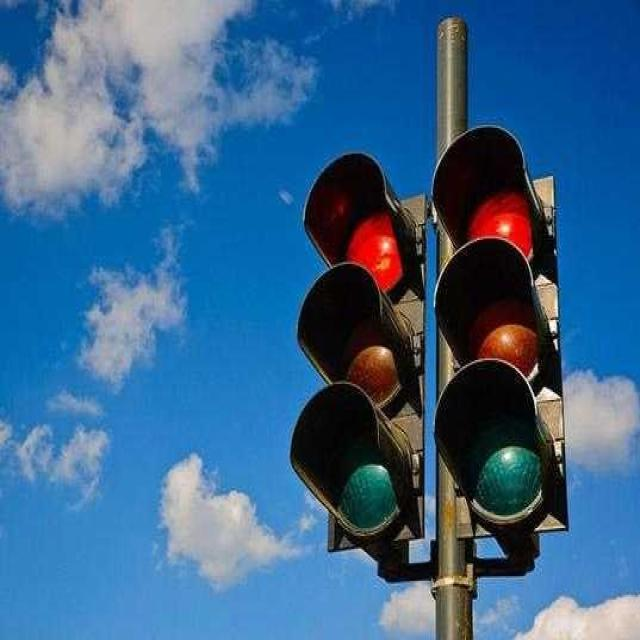Traffic Light -Red-: (286, 129, 431, 562), (438, 130, 585, 546)
